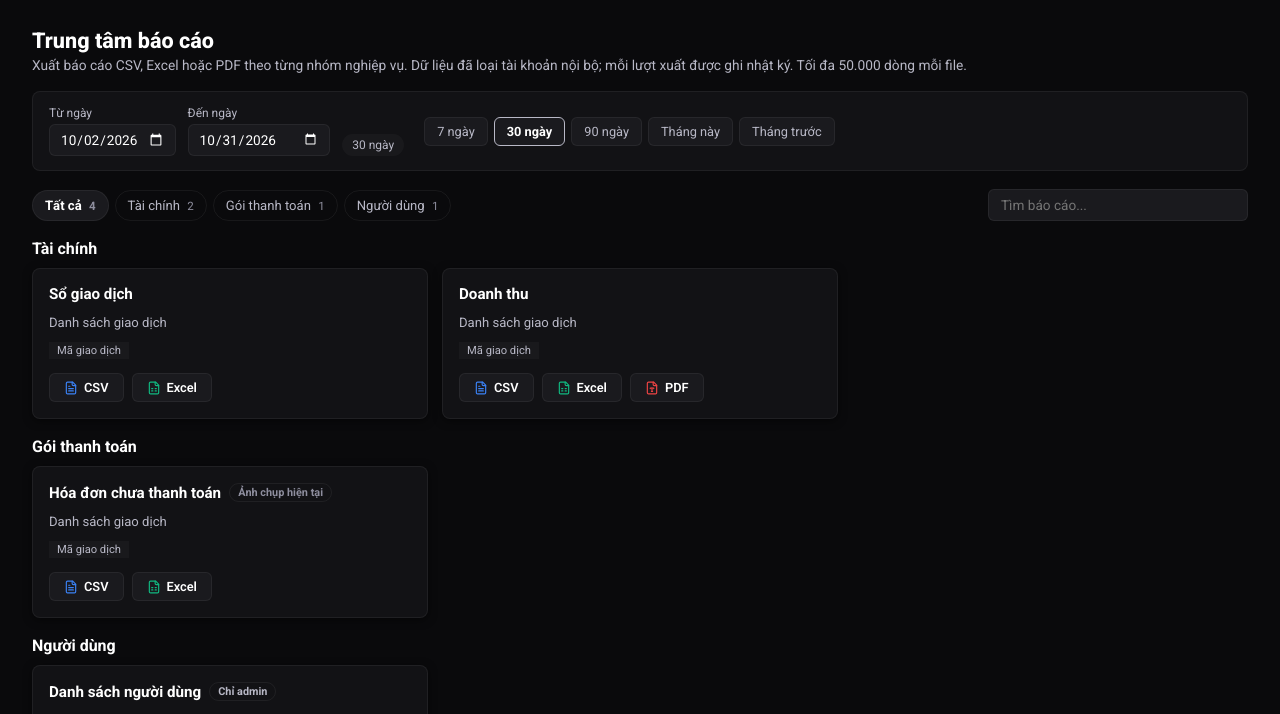
Test case: AdminReports › shows the admin badge (not locked) for admins and filters by search
Expected: the text "Chỉ admin" is shown, [209,682,276,701]
Type "doanh thu" into the search field labelled "Tìm báo cáo".
click(1118, 205); type("doanh thu")  # box [988,189,1248,221]
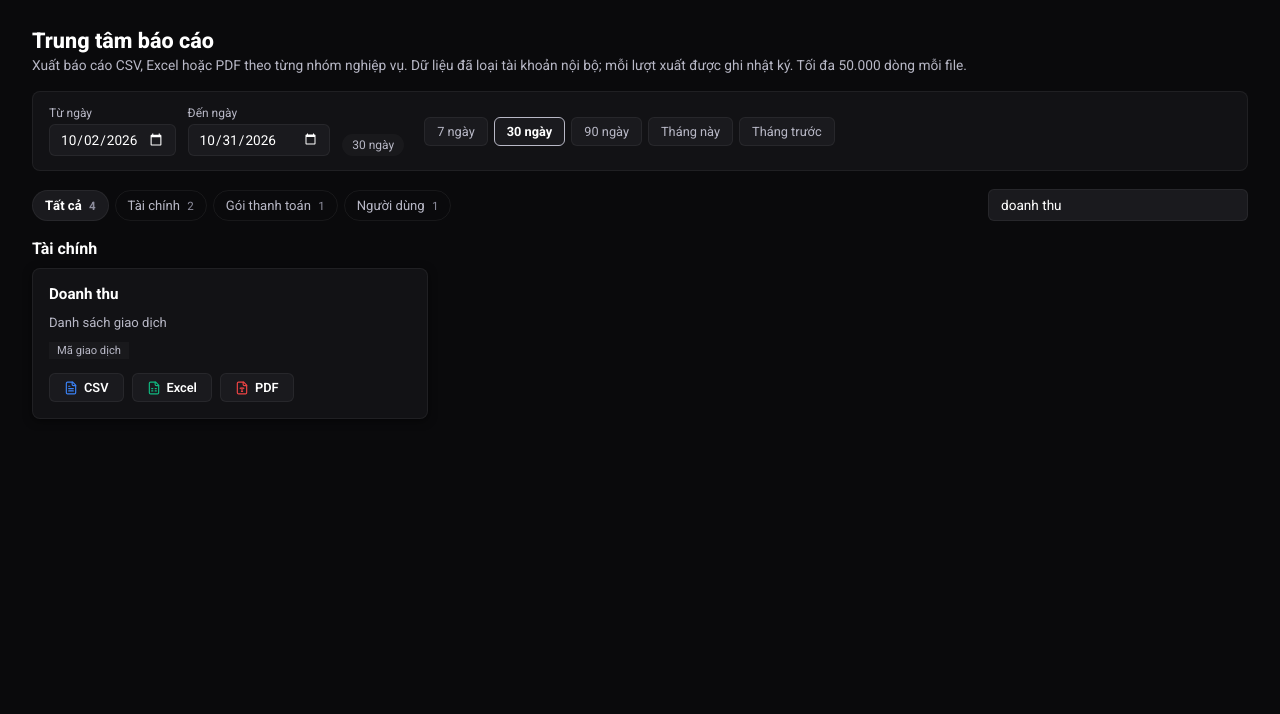
Expected: the element with test id "report-revenue" is shown, [32,268,428,419]
Replace the text in the search field named "Tìm báo cáo" with "zzzz" at x=1118, y=205, box [988,189,1248,221]
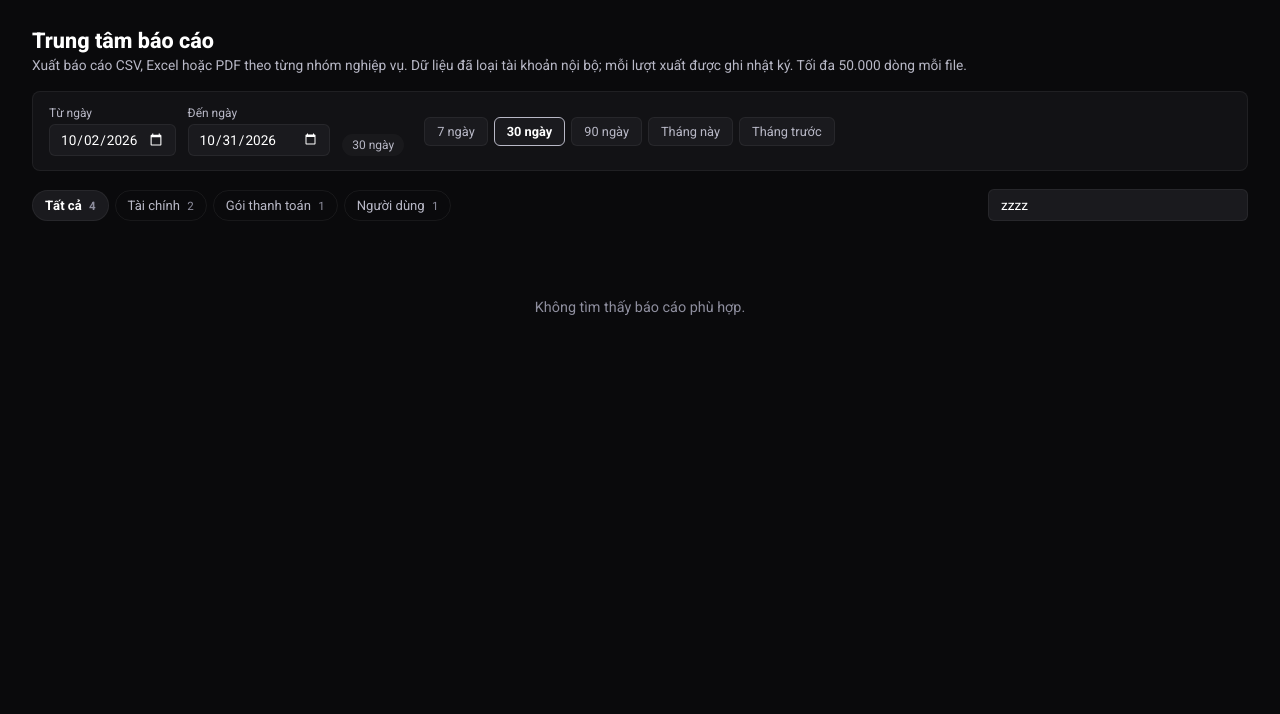
Result: the text "Không tìm thấy báo cáo phù hợp." is shown at [535,299,745,316]
